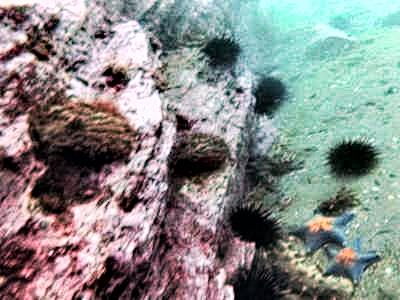urchin: (227, 198, 282, 251), (225, 264, 285, 296), (328, 138, 376, 176), (254, 73, 280, 116), (203, 33, 234, 68)
